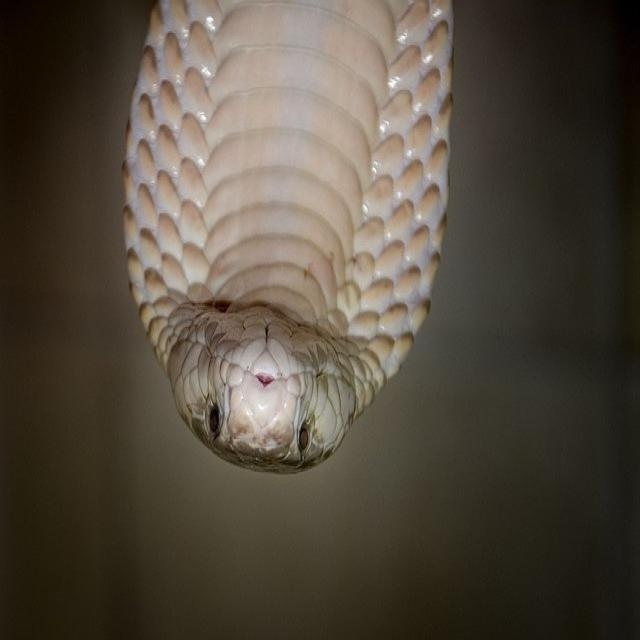Venomous: (105, 40, 488, 458)
